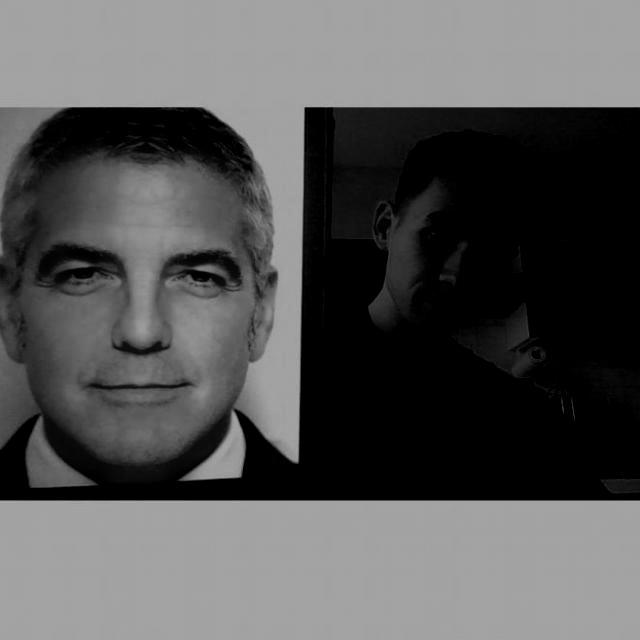fake: (0, 106, 337, 498)
real: (382, 176, 525, 334)
